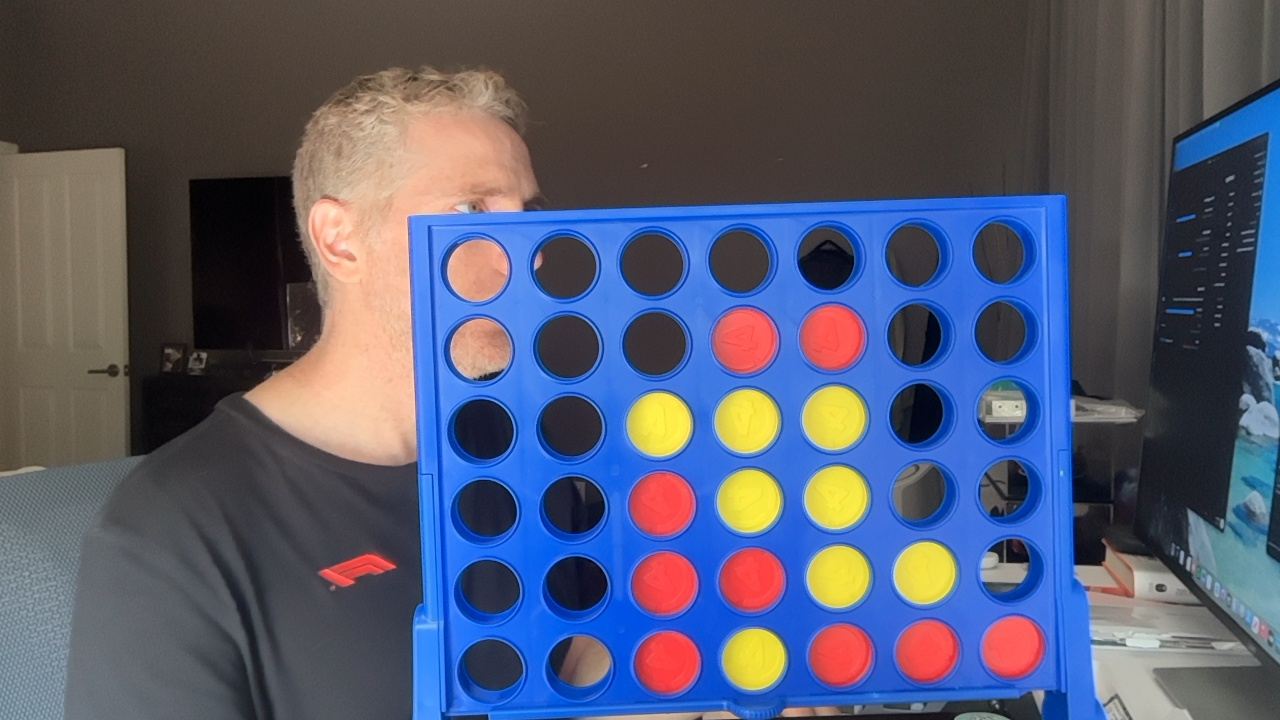red piece: (628, 471, 694, 537), (712, 307, 777, 373), (800, 303, 865, 369), (631, 551, 697, 615), (634, 631, 699, 695), (719, 548, 784, 611), (808, 624, 872, 687), (981, 615, 1044, 679), (895, 619, 958, 683)
yellow piece: (626, 391, 692, 458), (714, 388, 780, 454), (802, 385, 867, 450), (717, 468, 781, 534), (804, 465, 868, 530), (806, 544, 870, 609), (721, 627, 786, 691), (894, 541, 956, 605)
